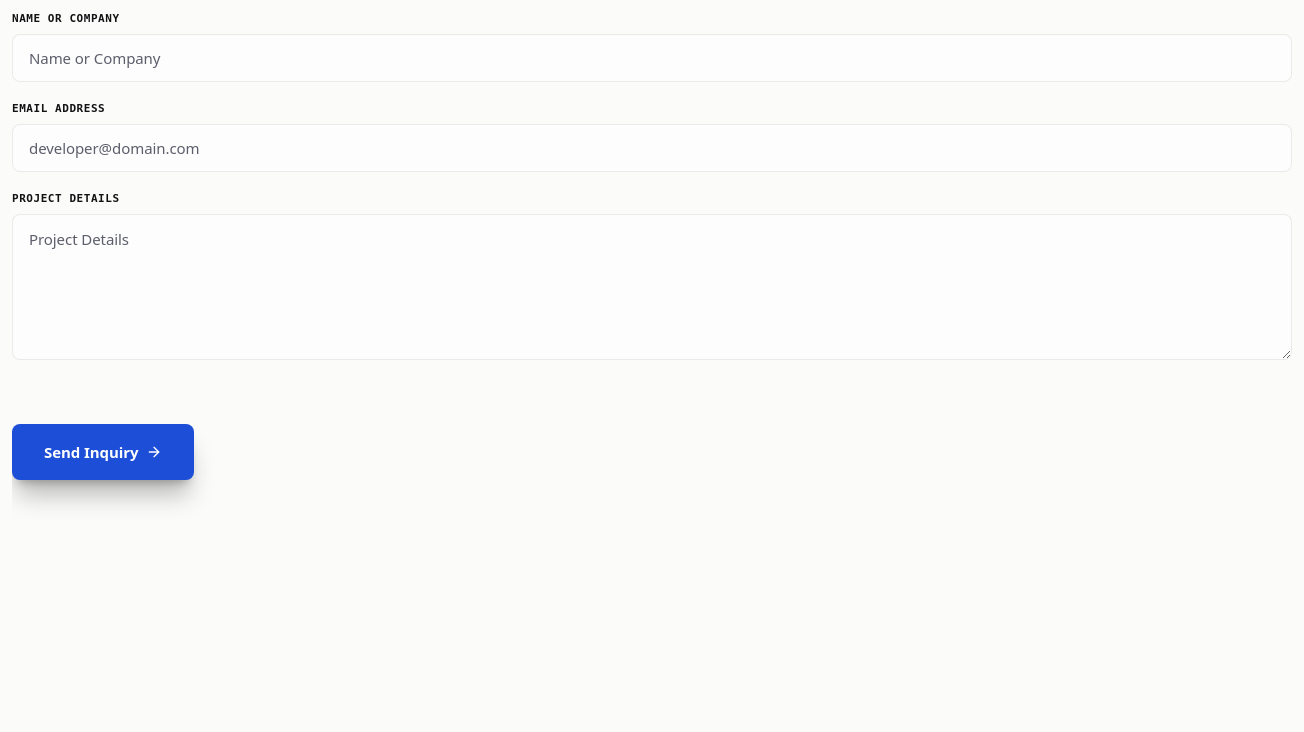
Test: ContactForm › submits successfully and presents live region success notification
This screenshot has width=1304, height=732.
In the field labelled "Name or Company": (652, 58) [12,34,1292,82], type "Alice Walker"
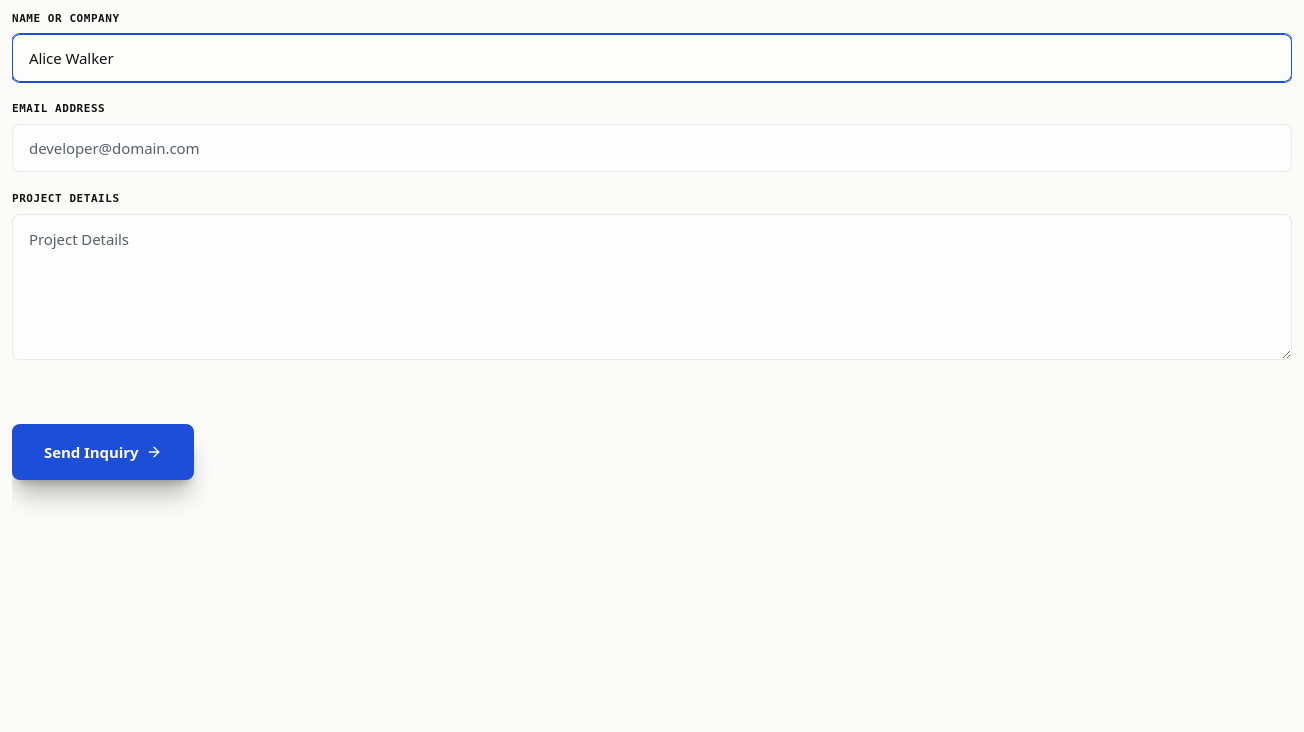
In the field labelled "Email Address": (652, 148) [12,124,1292,172], type "alice@example.com"
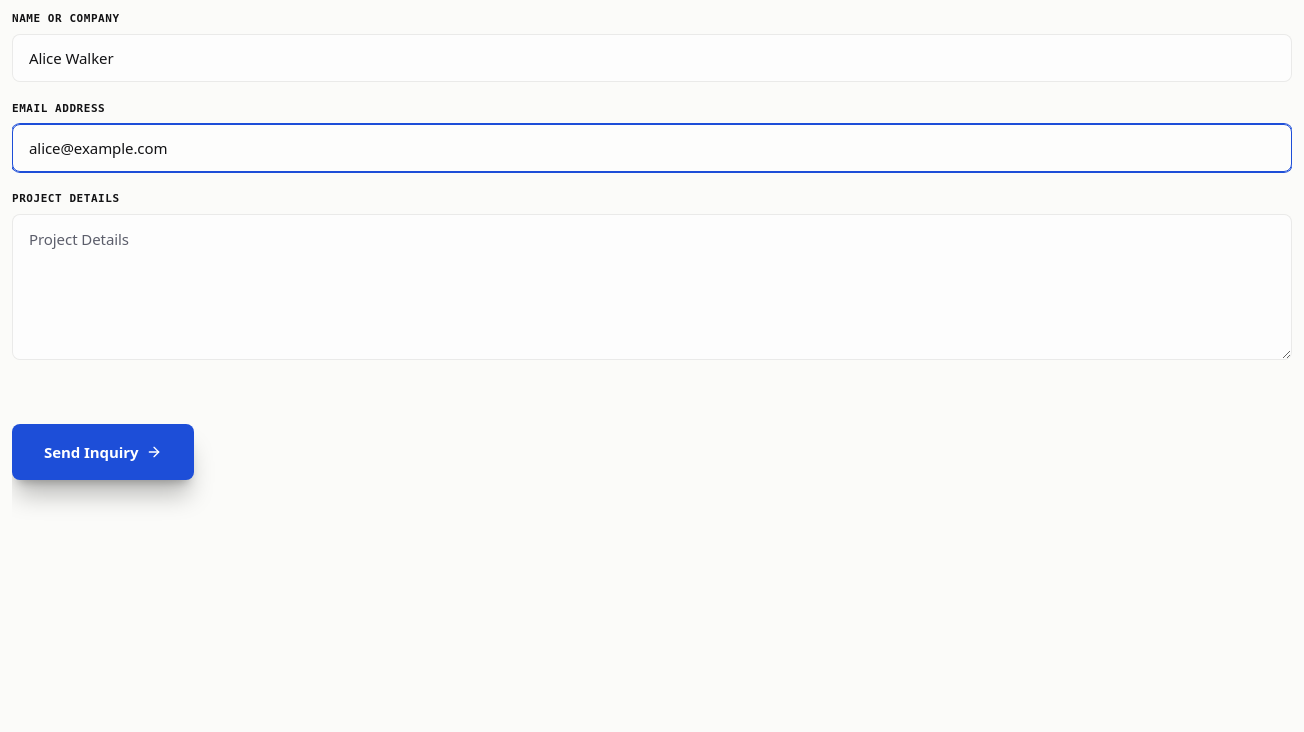
In the text box labelled "Project Details": (652, 287) [12,214,1292,360], type "We are looking to develop an enterprise .NET core web service with React."
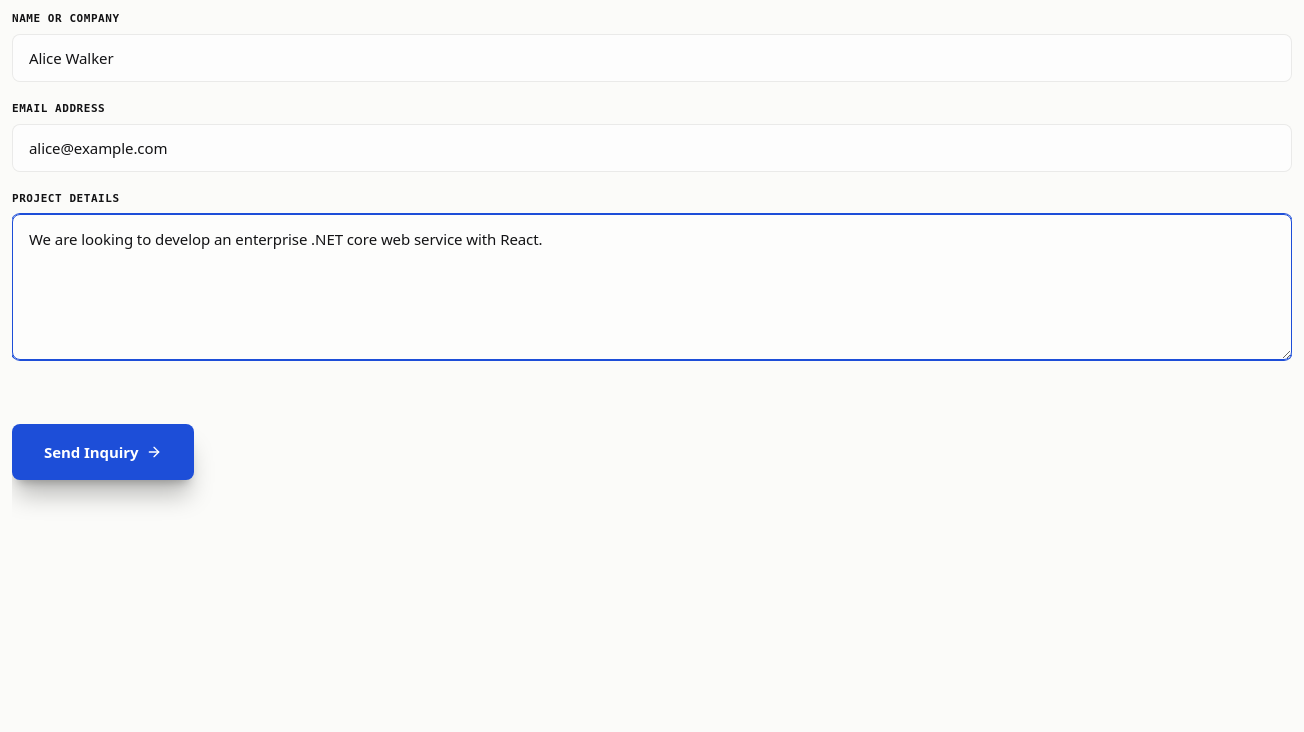
Click the button "Send Inquiry": (103, 452) [12,424,194,480]
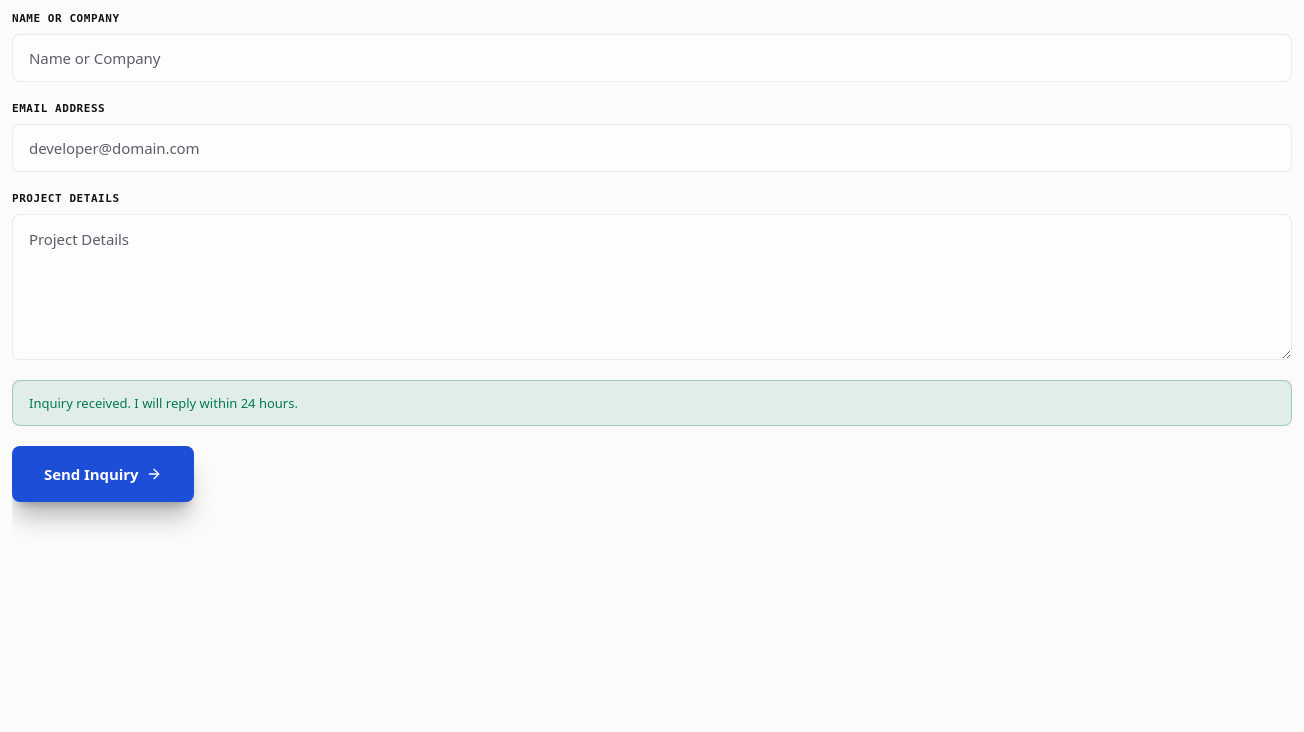
Expected: the text "Inquiry received. I will reply within 24 hours." is shown, [12,380,1292,426]
